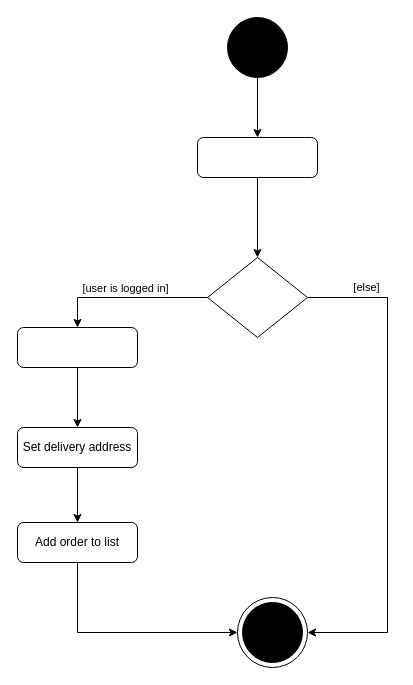
Image size: 413x685. Some labels were removed from this diagram. Here are the shapes that lost their labels. From the top down, the box of each, then its label:
(196, 136, 318, 178): Get order items
(16, 326, 138, 368): Get order time&date
